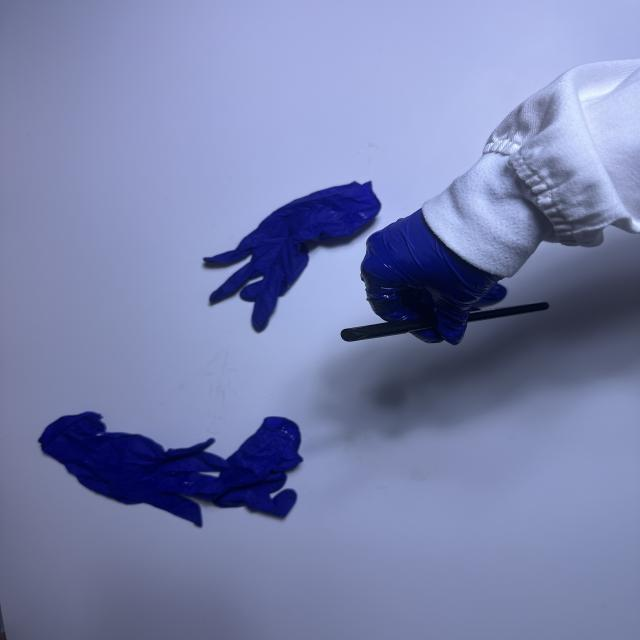gloves_contaminated: (361, 210, 505, 344)
